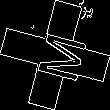M_W: (25, 26, 85, 84)
